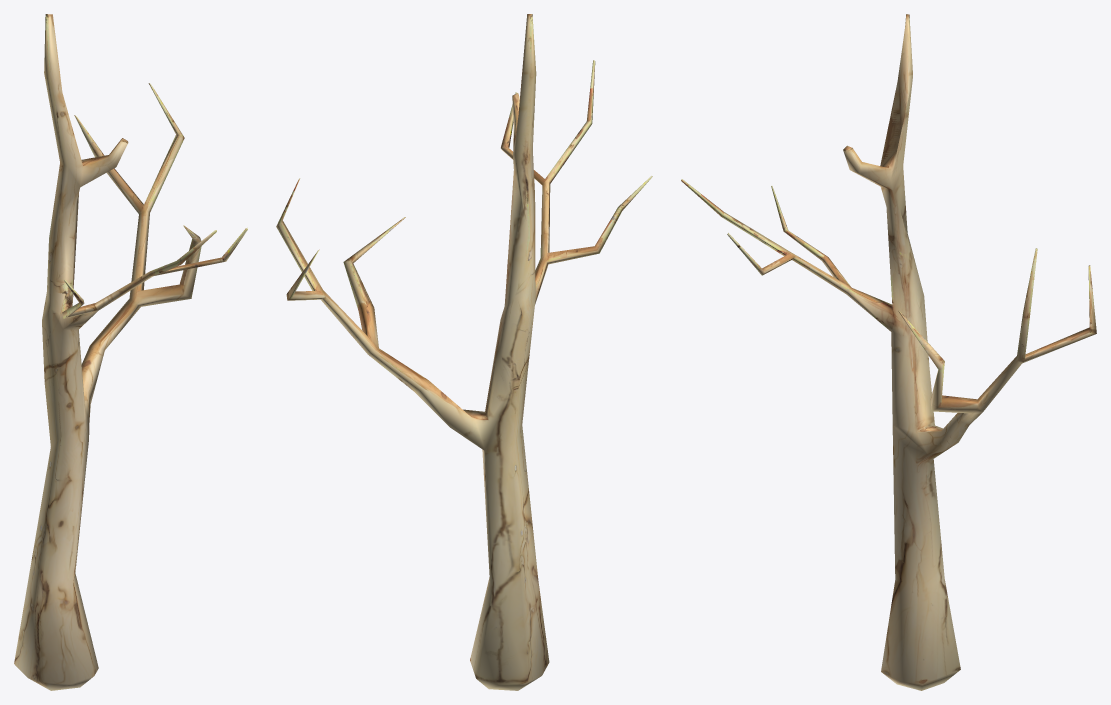
Rendered from _0723163154_texture.fbx.
3 renders of one model, left to right at view 1: azimuth 30°, elevation 25°; view 2: azimuth 150°, elevation 25°; view 3: azimuth 270°, elevation 25°, orthographic. The views are drawn at different scales.
Visible parts, largest first — view 1: input; view 2: input; view 3: input.
Boxes of the visible parts, bbox=[...] form: input: bbox=[14, 14, 247, 690]; input: bbox=[276, 14, 652, 690]; input: bbox=[681, 14, 1096, 690].
Size of the model in its own units: 77.44 by 200 by 115.
Materials: 1 (1 with a texture image).
